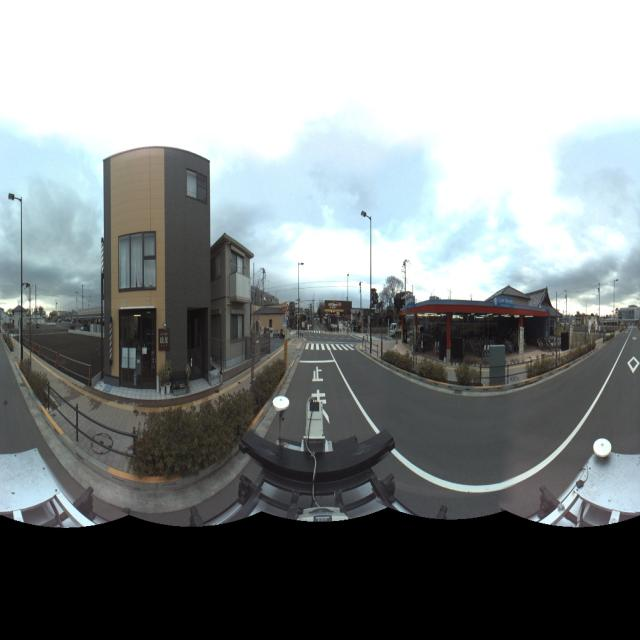b_1: (99, 140, 211, 396), (207, 233, 255, 385)
